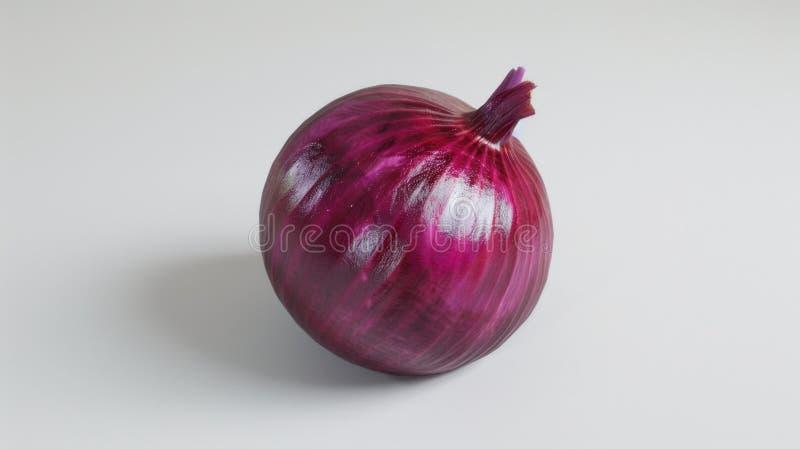Onion: (259, 68, 553, 375)
